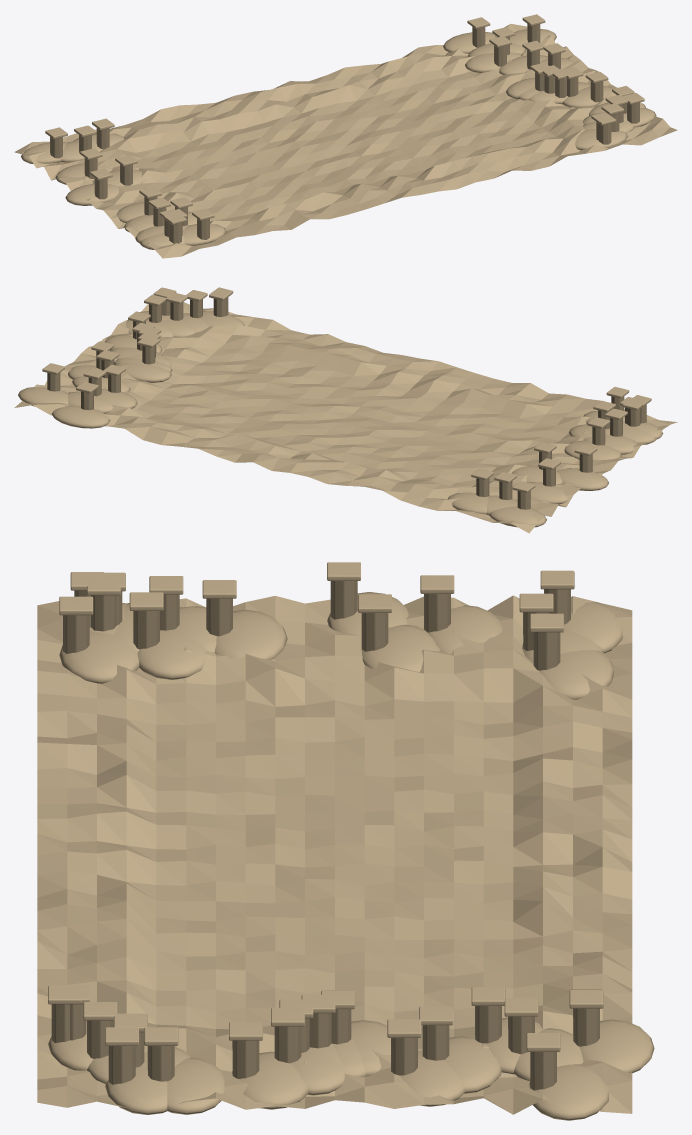
The model's file is terrain_desert.glb.
3 views of the same model, one above another, from view 1: azimuth 30°, elevation 25°; view 2: azimuth 150°, elevation 25°; view 3: azimuth 270°, elevation 25° (orthographic). The views are drawn at different scales.
Visible parts, largest first — view 1: terrain_desert_Mesh; view 2: terrain_desert_Mesh; view 3: terrain_desert_Mesh.
Boxes of the visible parts, x1,y1,x2,y2 form: terrain_desert_Mesh: [14, 14, 677, 258]; terrain_desert_Mesh: [14, 287, 677, 533]; terrain_desert_Mesh: [37, 562, 654, 1120].
Size of the model in its own units: 29.22 by 1.65 by 14.52.
